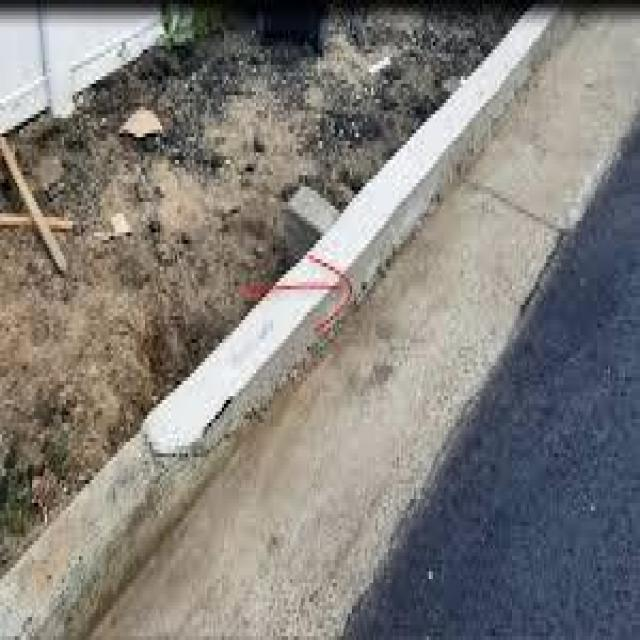curb: (139, 254, 355, 524), (313, 81, 492, 313), (4, 432, 176, 640)
